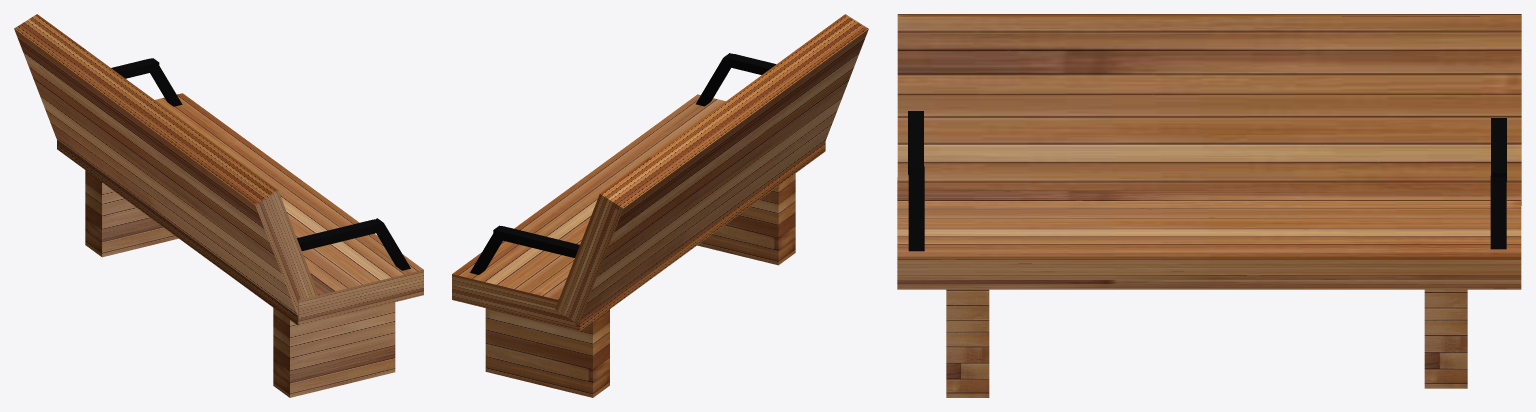
Rendered from BancaConRespaldo.obj.
The picture shows the model from 3 angles, left to right: view 1: azimuth 30°, elevation 25°; view 2: azimuth 150°, elevation 25°; view 3: azimuth 270°, elevation 25°; orthographic projection. The views are drawn at different scales.
Parts seen in each view (by area): view 1: Cube.004, Cube.003, Cube.005, Cube.006, Cube.007, Cube.008, Cube.009, Cube.010; view 2: Cube.004, Cube.003, Cube.006, Cube.005, Cube.009, Cube.008, Cube.007, Cube.010; view 3: Cube.004, Cube.003, Cube.005, Cube.006, Cube.008, Cube.010, Cube.009, Cube.007.
Boxes of the visible parts, left/top/right/bottom form: Cube.004: left=14, top=14, right=318, bottom=315; Cube.003: left=57, top=93, right=423, bottom=325; Cube.005: left=273, top=302, right=395, bottom=397; Cube.006: left=85, top=170, right=178, bottom=257; Cube.007: left=297, top=219, right=382, bottom=250; Cube.008: left=376, top=218, right=410, bottom=270; Cube.009: left=111, top=58, right=159, bottom=78; Cube.010: left=150, top=64, right=182, bottom=106; Cube.004: left=555, top=14, right=868, bottom=324; Cube.003: left=452, top=94, right=825, bottom=330; Cube.006: left=485, top=308, right=609, bottom=397; Cube.005: left=697, top=173, right=795, bottom=265; Cube.009: left=493, top=225, right=579, bottom=257; Cube.008: left=696, top=53, right=730, bottom=106; Cube.007: left=726, top=53, right=776, bottom=74; Cube.010: left=470, top=232, right=502, bottom=274; Cube.004: left=897, top=14, right=1521, bottom=205; Cube.003: left=897, top=177, right=1521, bottom=289; Cube.005: left=946, top=289, right=989, bottom=397; Cube.006: left=1424, top=289, right=1467, bottom=388; Cube.008: left=908, top=165, right=924, bottom=251; Cube.010: left=1490, top=174, right=1506, bottom=249; Cube.009: left=1491, top=118, right=1506, bottom=181; Cube.007: left=908, top=111, right=923, bottom=174.
Size of the model in its own units: 2.26 by 2.92 by 5.6.
